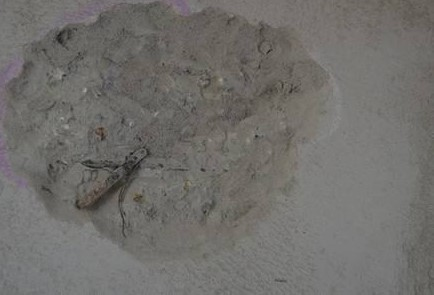Exposed reinforcement: (77, 147, 149, 209)
Spalling: (1, 1, 342, 263)
